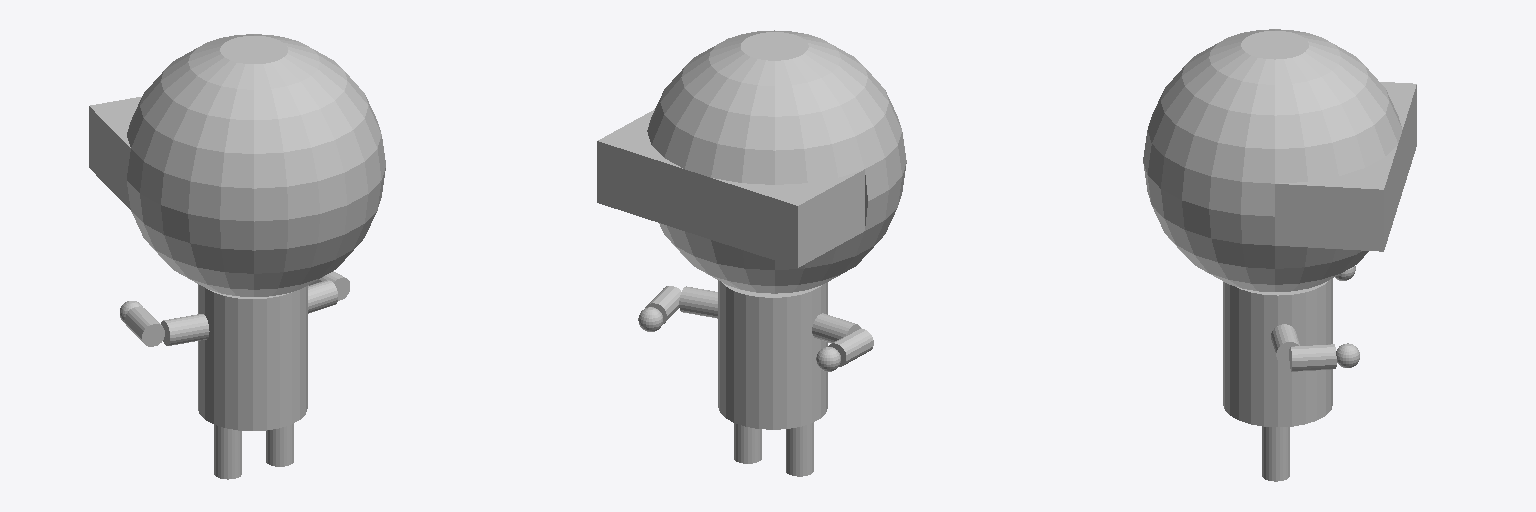
File: Astronauta.obj
The picture shows the model from 3 angles: view 1: azimuth 30°, elevation 25°; view 2: azimuth 150°, elevation 25°; view 3: azimuth 270°, elevation 25°; orthographic projection.
Visible parts, largest first — view 1: Mesh1 Group2 Group1 Model, Mesh7 Group10 Group5 Group1 Model, Mesh3 Group4 Group1 Model, Mesh8 Group12 Group11 Group5 Group1 Model, Mesh2 Group3 Group1 Model, Mesh9 Group13 Group11 Group5 Group1 Model, Mesh4 Group7 Group6 Group5 Group1 Model; view 2: Mesh1 Group2 Group1 Model, Mesh7 Group10 Group5 Group1 Model, Mesh3 Group4 Group1 Model, Mesh2 Group3 Group1 Model, Mesh4 Group7 Group6 Group5 Group1 Model, Mesh9 Group13 Group11 Group5 Group1 Model, Mesh8 Group12 Group11 Group5 Group1 Model, Mesh5 Group8 Group6 Group5 Group1 Model; view 3: Mesh1 Group2 Group1 Model, Mesh7 Group10 Group5 Group1 Model, Mesh2 Group3 Group1 Model, Mesh5 Group8 Group6 Group5 Group1 Model, Mesh4 Group7 Group6 Group5 Group1 Model.
Boxes of the visible parts, box(x1,y1,x2,y2) form: Mesh1 Group2 Group1 Model: box(89, 34, 385, 296); Mesh7 Group10 Group5 Group1 Model: box(198, 284, 307, 430); Mesh3 Group4 Group1 Model: box(214, 425, 241, 479); Mesh8 Group12 Group11 Group5 Group1 Model: box(161, 314, 209, 345); Mesh2 Group3 Group1 Model: box(266, 423, 293, 466); Mesh9 Group13 Group11 Group5 Group1 Model: box(125, 306, 164, 346); Mesh4 Group7 Group6 Group5 Group1 Model: box(308, 280, 337, 313); Mesh1 Group2 Group1 Model: box(597, 30, 906, 293); Mesh7 Group10 Group5 Group1 Model: box(718, 280, 827, 429); Mesh3 Group4 Group1 Model: box(786, 422, 813, 476); Mesh2 Group3 Group1 Model: box(734, 423, 761, 463); Mesh4 Group7 Group6 Group5 Group1 Model: box(679, 286, 717, 318); Mesh9 Group13 Group11 Group5 Group1 Model: box(828, 328, 873, 366); Mesh8 Group12 Group11 Group5 Group1 Model: box(812, 313, 860, 343); Mesh5 Group8 Group6 Group5 Group1 Model: box(645, 286, 680, 324); Mesh1 Group2 Group1 Model: box(1143, 29, 1416, 291); Mesh7 Group10 Group5 Group1 Model: box(1223, 278, 1332, 426); Mesh2 Group3 Group1 Model: box(1262, 426, 1289, 481); Mesh5 Group8 Group6 Group5 Group1 Model: box(1289, 344, 1336, 371); Mesh4 Group7 Group6 Group5 Group1 Model: box(1271, 324, 1299, 365).
Bounding box in the file's own units: 12.74 × 21.41 × 12.74.